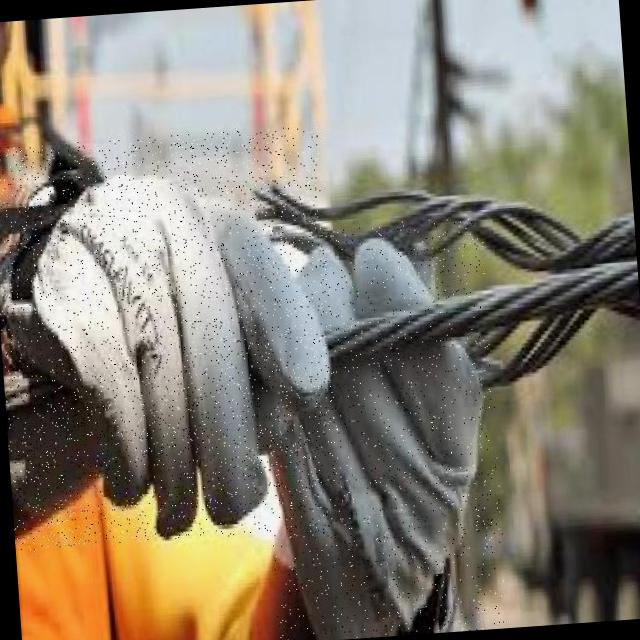gloves: (28, 147, 340, 548), (248, 231, 506, 640)
